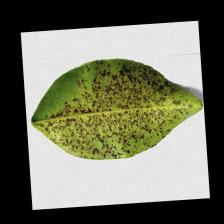canker: (76, 90, 160, 138)
